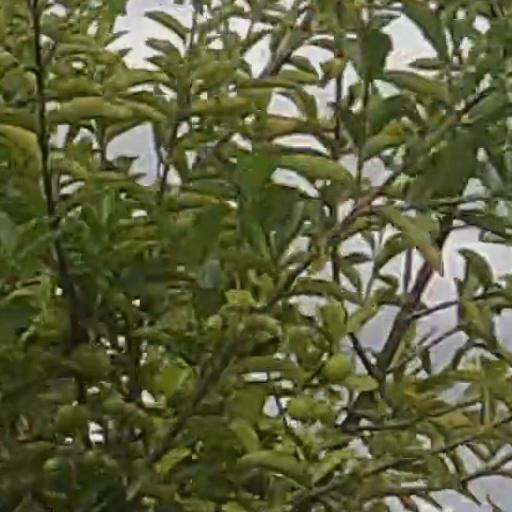acerola: (73, 345, 108, 379), (145, 365, 179, 395), (324, 354, 353, 381), (287, 397, 314, 420)
